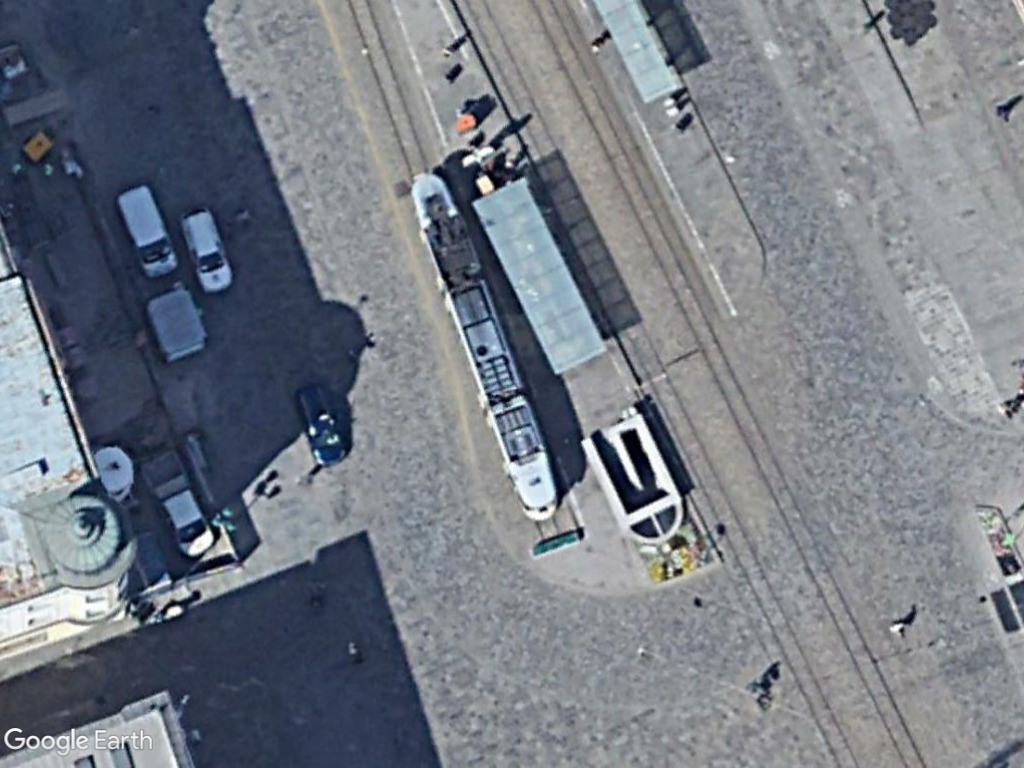car: (287, 373, 346, 478), (176, 204, 235, 297)
other: (144, 446, 220, 563)
van: (112, 176, 181, 284)
